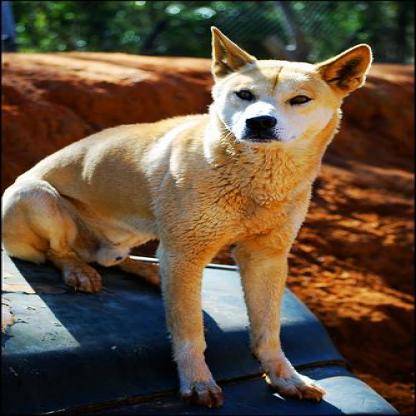dingo: (0, 23, 374, 414)
